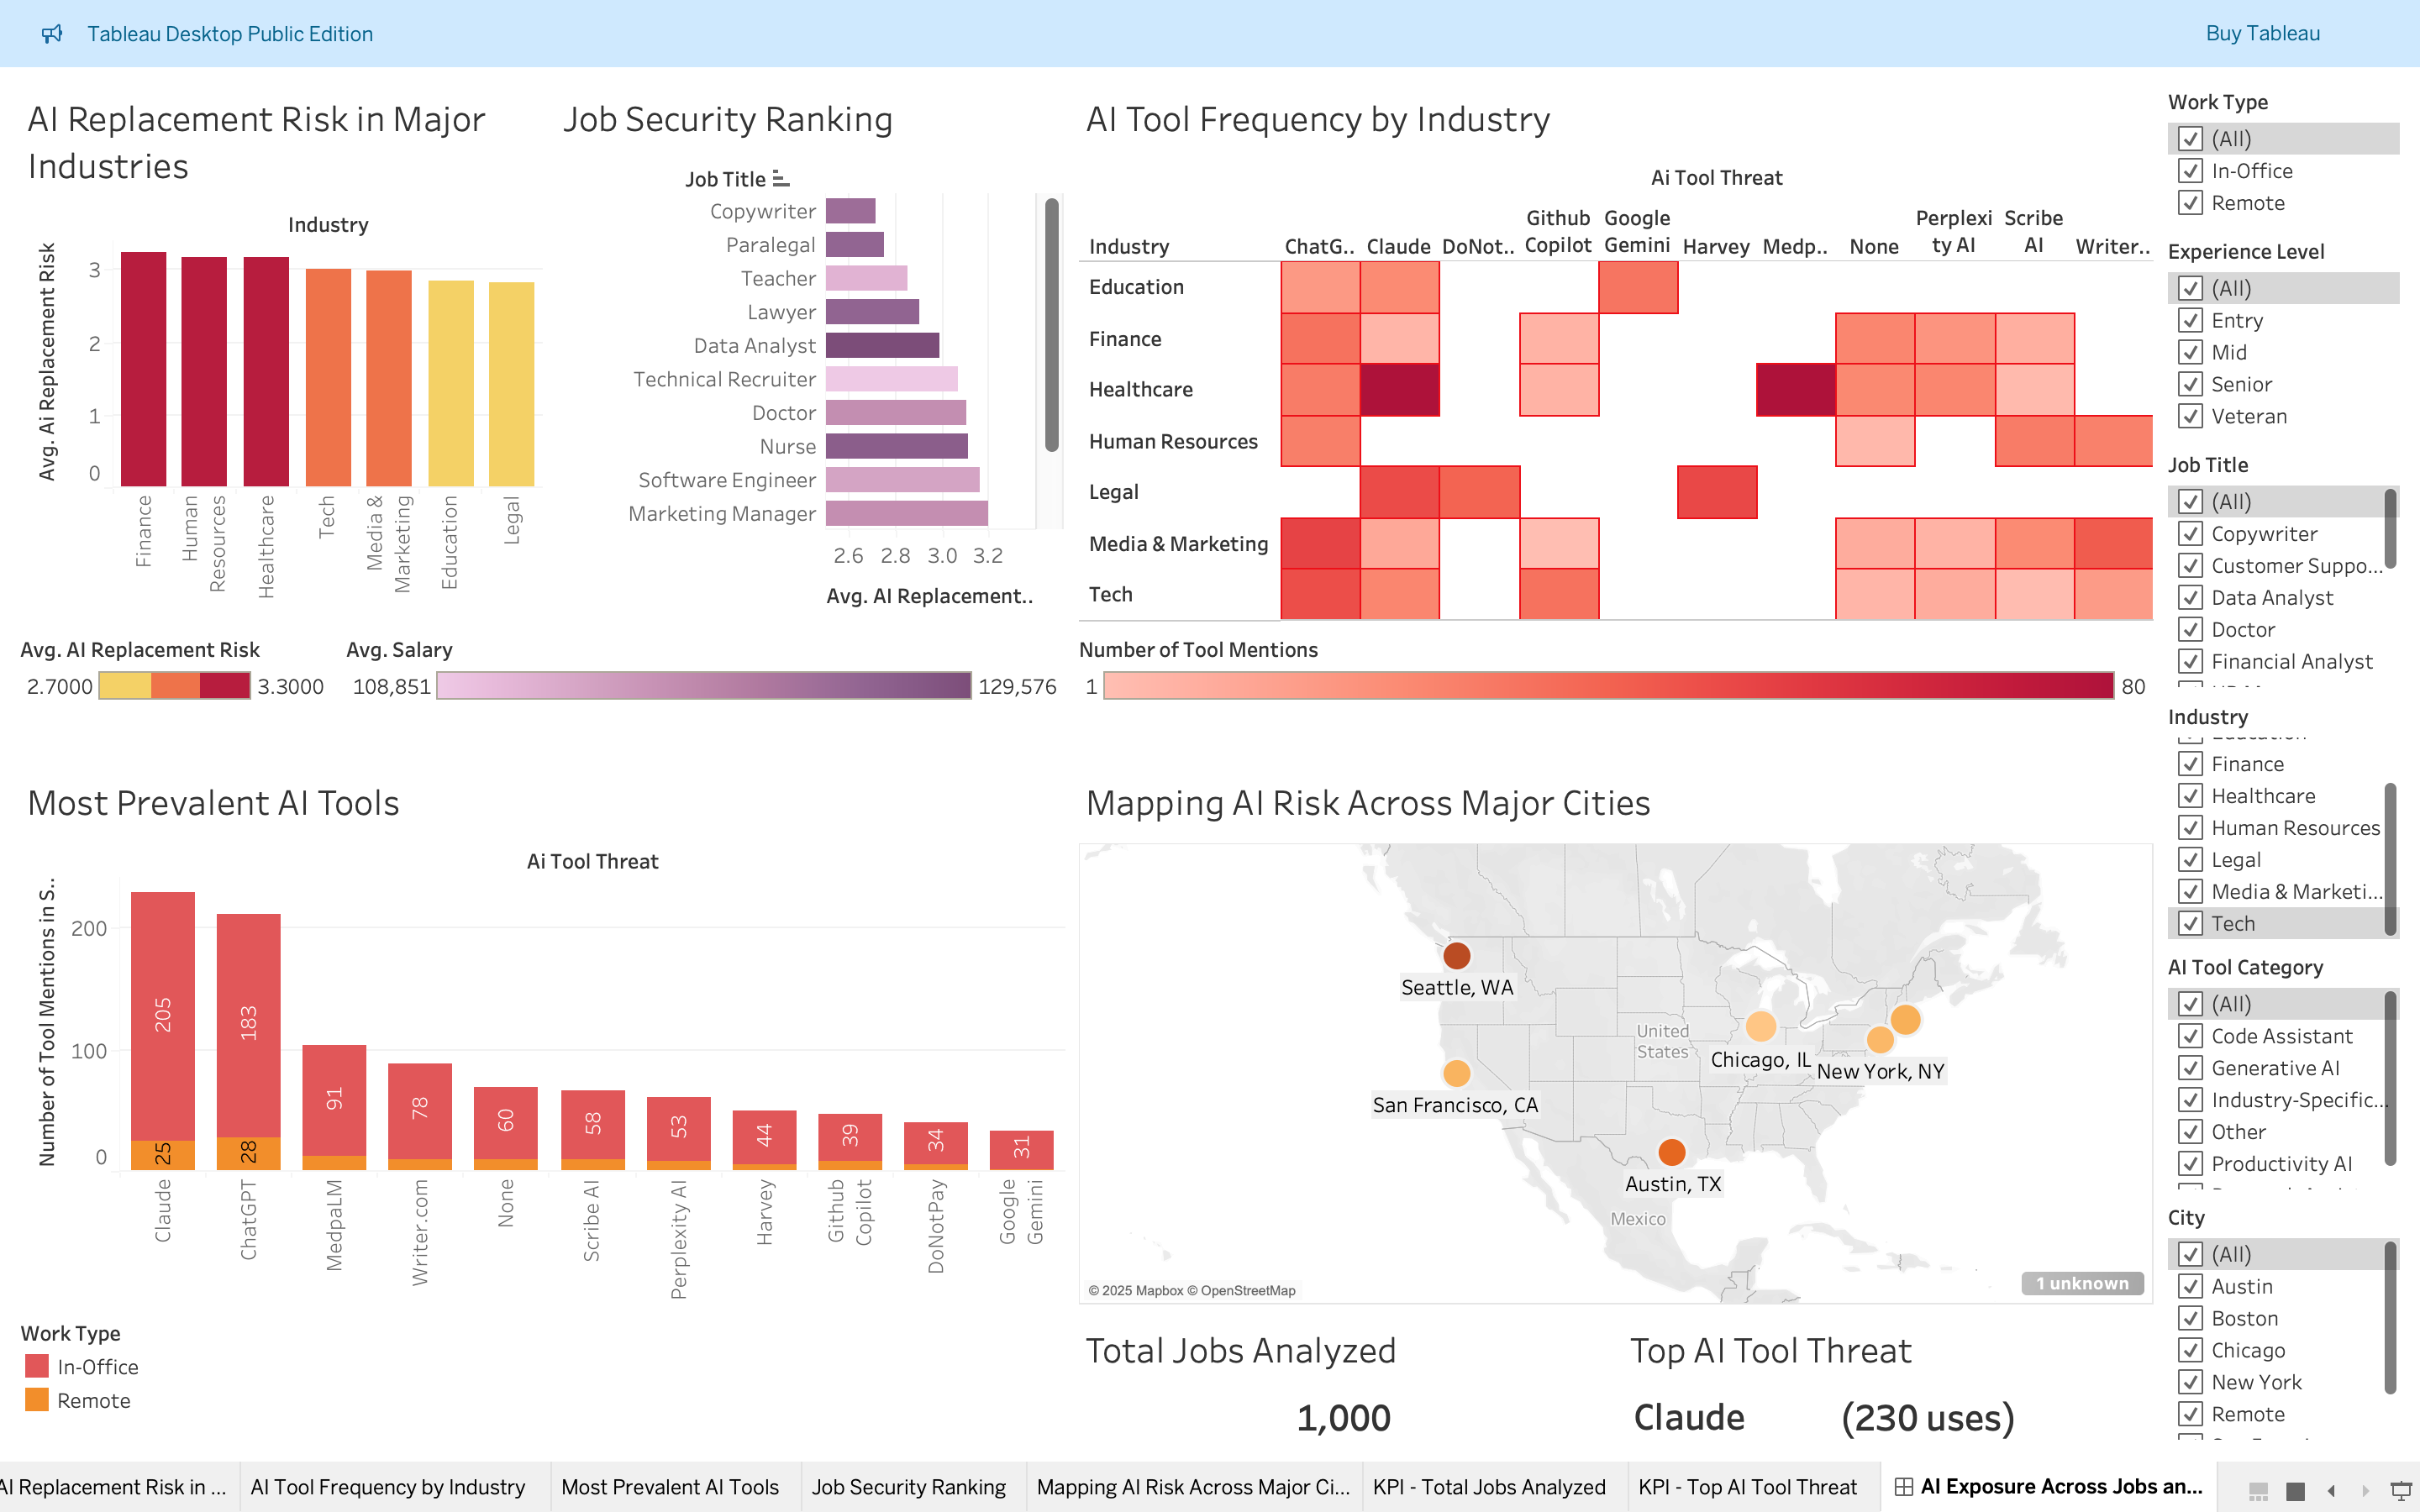

Layout of this report page (visuals, bound fields, positions):
{"tool":"tableau","page":{"name":"AI Exposure Across Jobs and Industries","canvas":[1000,1000],"units":"permille","ordinal":0},"visuals":[{"type":"worksheet","title":"Average AI Replacement Risk in Major Industries","mark":"Automatic","rows":["ai_replacement_risk"],"cols":["industry"],"box":[6.5,10.4,216.9,391.7]},{"type":"worksheet","title":"Job Security Ranking","mark":"Automatic","rows":["job_title"],"cols":["ai_replacement_risk"],"box":[223.4,10.4,210.9,391.7]},{"type":"worksheet","title":"AI Tool Frequency by Industry","mark":"Automatic","rows":["industry"],"cols":["ai_tool_threat"],"box":[434.3,10.4,440.4,391.7]},{"type":"filter","title":"Job Security Ranking","param":"[federated.16rms8k1d2ey9x1f105db0zgppw6].[none:work_type:nk]","box":[874.7,10.4,118.8,115.9]},{"type":"filter","title":"AI Tool Frequency by Industry","param":"[federated.16rms8k1d2ey9x1f105db0zgppw6].[none:experience_level:nk]","box":[874.7,126.3,118.8,165.4]},{"type":"filter","title":"Most Prevalent AI Tools","param":"[federated.16rms8k1d2ey9x1f105db0zgppw6].[none:job_title:nk]","box":[874.7,291.7,118.8,174.5]},{"type":"legend","title":"Average AI Replacement Risk in Major Industries","param":"[federated.16rms8k1d2ey9x1f105db0zgppw6].[avg:ai_replacement_risk:qk]","box":[6.5,402.1,131.7,97.9]},{"type":"legend","title":"Job Security Ranking","param":"[federated.16rms8k1d2ey9x1f105db0zgppw6].[avg:salary:qk]","box":[138.2,402.1,296.1,97.9]},{"type":"legend","title":"AI Tool Frequency by Industry","param":"[federated.16rms8k1d2ey9x1f105db0zgppw6].[__tableau_internal_object_id__].[cnt:P","box":[434.3,402.1,440.4,97.9]},{"type":"filter","title":"Most Prevalent AI Tools","param":"[federated.16rms8k1d2ey9x1f105db0zgppw6].[none:industry:nk]","box":[874.7,466.2,118.8,174.5]},{"type":"worksheet","title":"Most Prevalent AI Tools","mark":"Automatic","rows":["PostgreSQL flexible server DB.csv_2448F8B7C85A471692FE6C8989"],"cols":["ai_tool_threat"],"box":[6.5,500,427.8,391.7]},{"type":"worksheet","title":"Mapping AI Risk Across Major Cities","mark":"Automatic","box":[434.3,500,440.4,391.9]},{"type":"filter","title":"AI Tool Frequency by Industry","param":"[federated.16rms8k1d2ey9x1f105db0zgppw6].[none:Calculation_32299270951944192:nk]","box":[874.7,640.6,118.8,174.5]},{"type":"filter","title":"Average AI Replacement Risk in Major Industries","param":"[federated.16rms8k1d2ey9x1f105db0zgppw6].[none:city:nk]","box":[874.7,815.1,118.8,174.5]},{"type":"legend","title":"Most Prevalent AI Tools","param":"[federated.16rms8k1d2ey9x1f105db0zgppw6].[none:work_type:nk]","box":[6.5,891.7,427.8,97.9]},{"type":"worksheet","title":"KPI - Total Jobs Analyzed","mark":"Automatic","box":[434.3,891.9,220.2,97.7]},{"type":"worksheet","title":"KPI - Top AI Tool Threat","mark":"Text","rows":["ai_tool_threat"],"box":[654.5,891.9,220.2,97.7]}]}

Visuals, with their boxes on the dashboard's canvas, which has no fixed pixel size, in thousandths of its width and height (x1, y1, x2, y2). These are canvas units, not pixel positions in the 2420x1512 screenshot, which may show the page scaled, cropped or inside an application window:
"Average AI Replacement Risk in Major Industries" worksheet: <bbox>6, 10, 223, 402</bbox>
"Job Security Ranking" worksheet: <bbox>223, 10, 434, 402</bbox>
"AI Tool Frequency by Industry" worksheet: <bbox>434, 10, 875, 402</bbox>
"Job Security Ranking" filter: <bbox>875, 10, 994, 126</bbox>
"AI Tool Frequency by Industry" filter: <bbox>875, 126, 994, 292</bbox>
"Most Prevalent AI Tools" filter: <bbox>875, 292, 994, 466</bbox>
"Average AI Replacement Risk in Major Industries" legend: <bbox>6, 402, 138, 500</bbox>
"Job Security Ranking" legend: <bbox>138, 402, 434, 500</bbox>
"AI Tool Frequency by Industry" legend: <bbox>434, 402, 875, 500</bbox>
"Most Prevalent AI Tools" filter: <bbox>875, 466, 994, 641</bbox>
"Most Prevalent AI Tools" worksheet: <bbox>6, 500, 434, 892</bbox>
"Mapping AI Risk Across Major Cities" worksheet: <bbox>434, 500, 875, 892</bbox>
"AI Tool Frequency by Industry" filter: <bbox>875, 641, 994, 815</bbox>
"Average AI Replacement Risk in Major Industries" filter: <bbox>875, 815, 994, 990</bbox>
"Most Prevalent AI Tools" legend: <bbox>6, 892, 434, 990</bbox>
"KPI - Total Jobs Analyzed" worksheet: <bbox>434, 892, 654, 990</bbox>
"KPI - Top AI Tool Threat" worksheet (Text marks): <bbox>654, 892, 875, 990</bbox>
